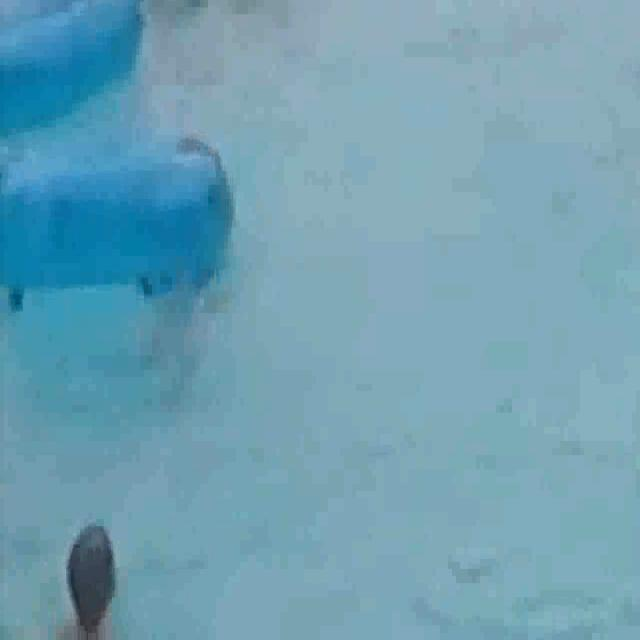Out of Water: (164, 129, 291, 342)
